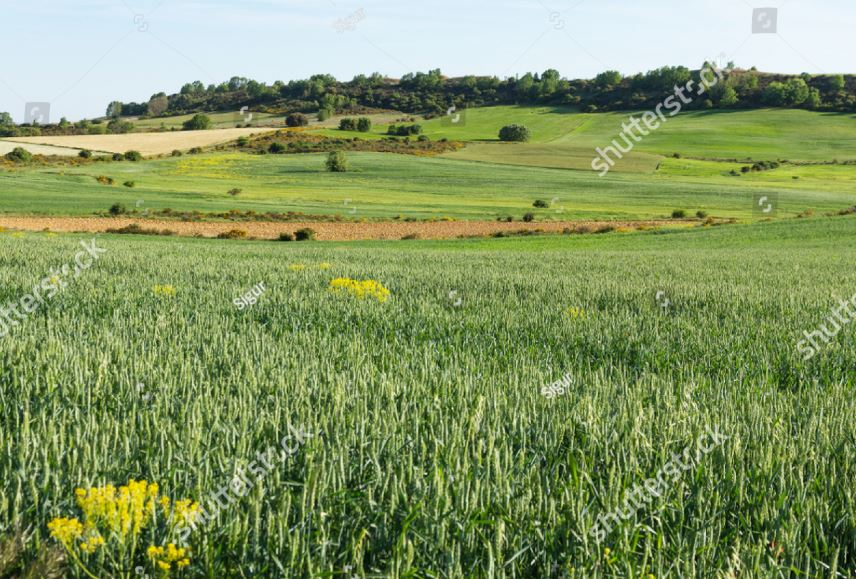Wheat: (302, 356, 586, 574)
